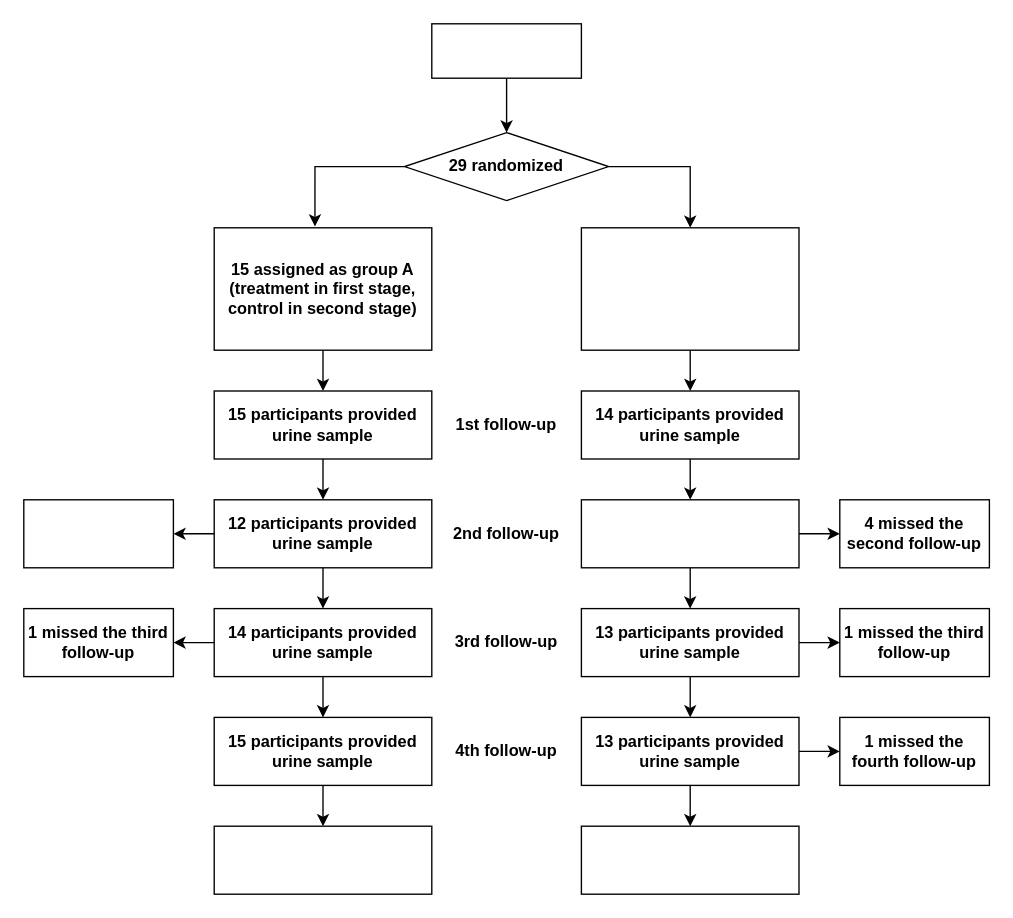
Some shapes in this 1013 by 918 pixel diagram are drawn without their labels. Each missing label, with the centre of its shape:
10 participants provided urine sample: [689,533]
11 included in analysis: [322,859]
14 assigned as group B (treatment in second stage, control in first stage): [689,288]
29 participants assessed: [505,50]
3 missed the second follow-up: [97,533]
9 included in analysis: [689,859]
